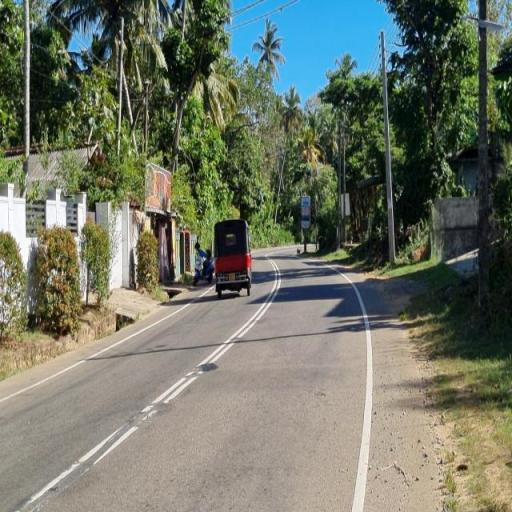double_white_line: (141, 258, 281, 420)
